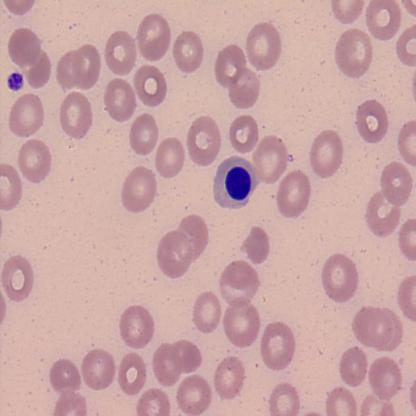NRC: (211, 154, 258, 210)
